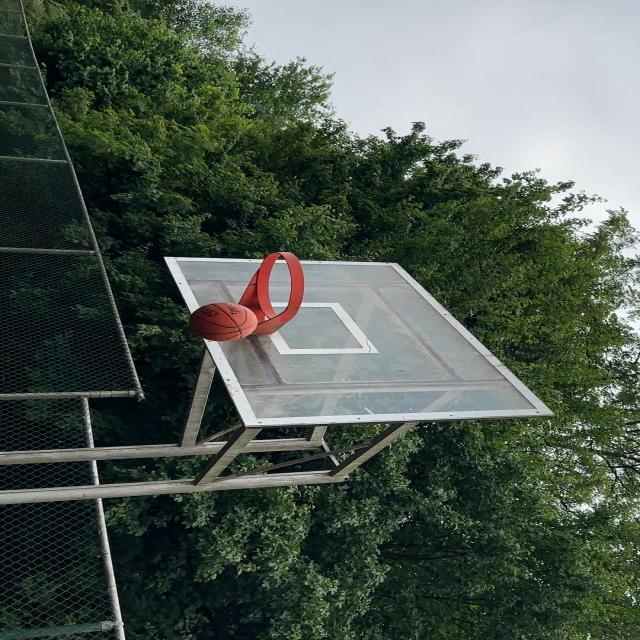Basketball: (189, 301, 257, 340)
